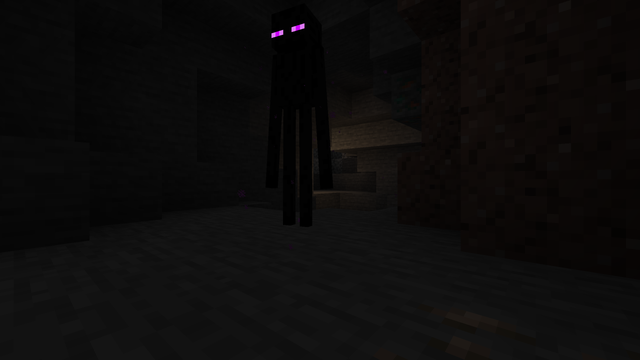endermens: (266, 1, 328, 230)
